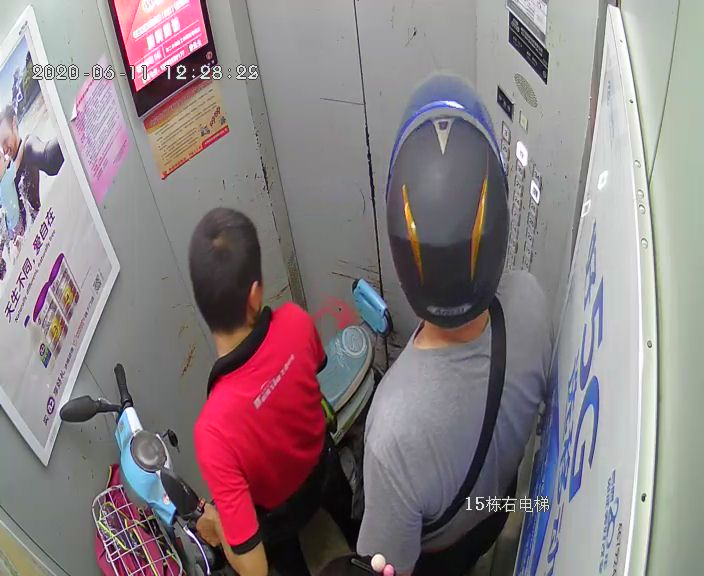Electric-bicycle: (57, 281, 393, 576)
